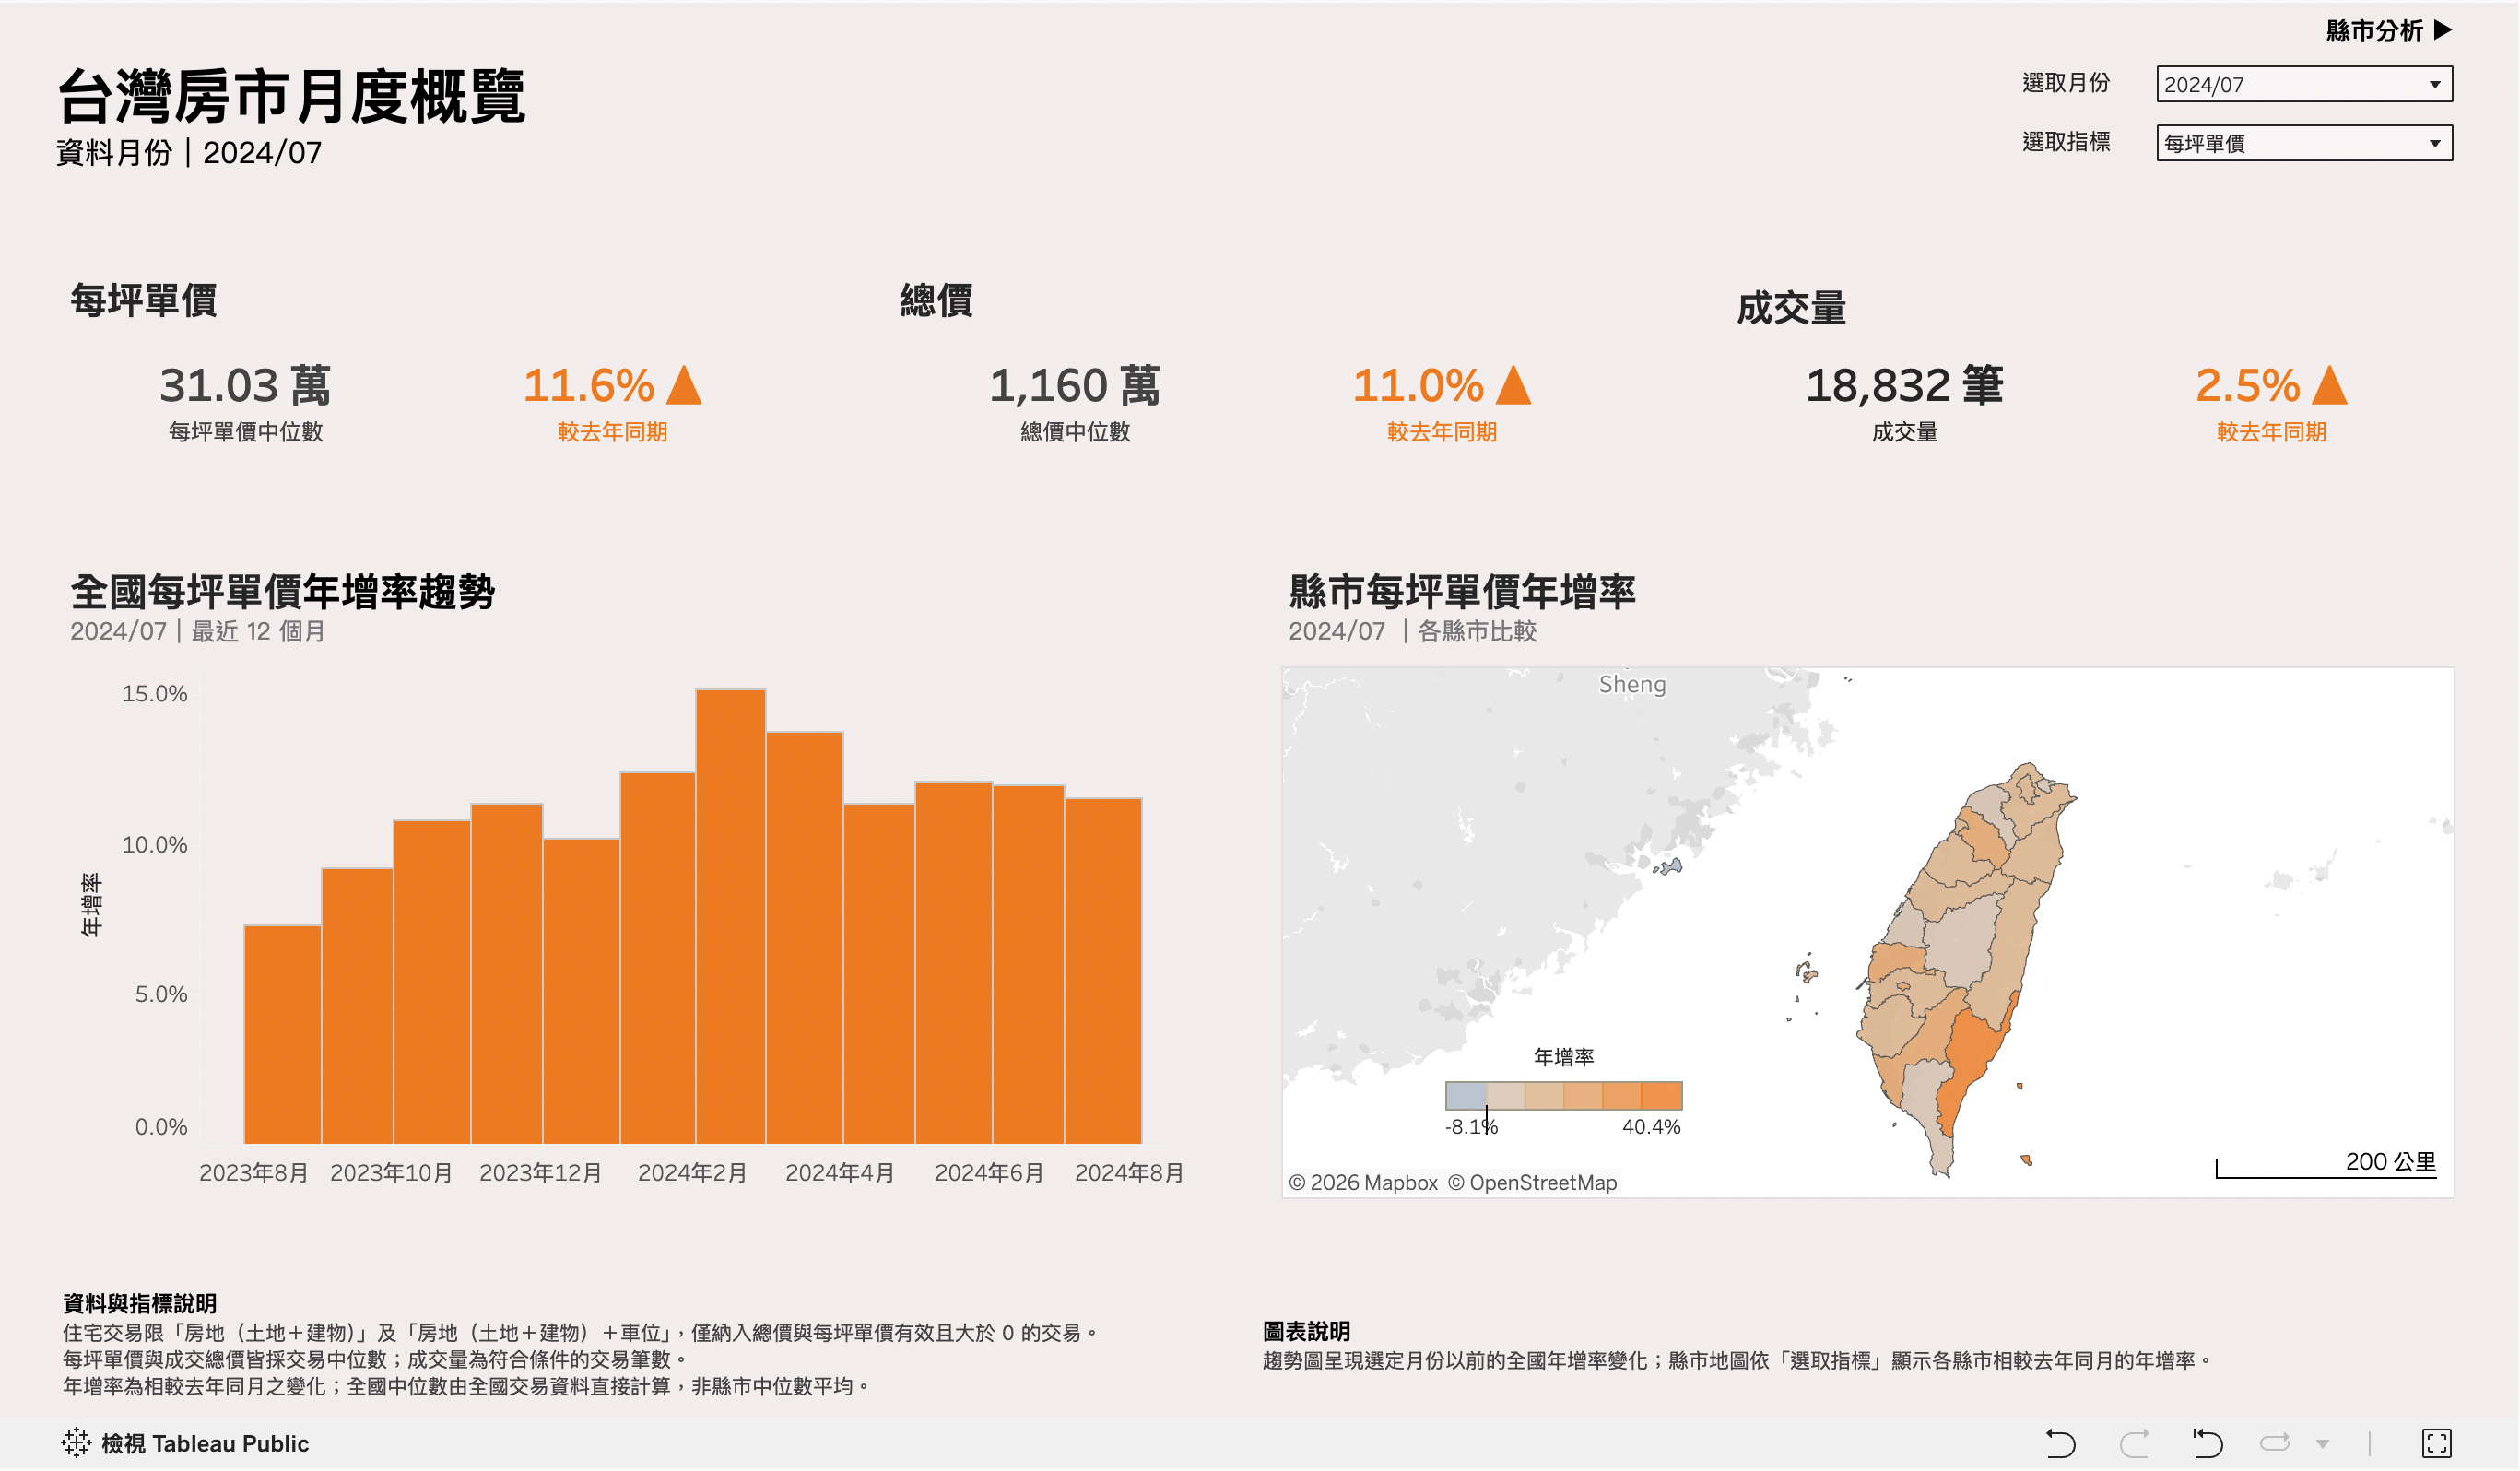

This screenshot's page, from the dashboard's own definition file:
{"tool":"tableau","page":{"name":"台灣房市月度概覽","canvas":[1366,768],"ordinal":0},"visuals":[{"type":"dashboard-object","box":[1246,7,101,16]},{"type":"text","box":[8,8,400.6,107.4]},{"type":"parameter","param":"[Parameters].[參數 0512483433230338]","box":[1093,30,243,32]},{"type":"parameter","param":"[Parameters].[參數 0512483597844485]","box":[1093,62,243,31]},{"type":"worksheet","title":"每坪單價","mark":"Automatic","box":[34,141,199,105]},{"type":"worksheet","title":"每坪單價 年增","mark":"Automatic","box":[233,141,199,105]},{"type":"worksheet","title":"交易量","mark":"Automatic","box":[934,141,199,105]},{"type":"worksheet","title":"交易量 年增","mark":"Automatic","box":[1133,141,199,105]},{"type":"worksheet","title":"總價","mark":"Automatic","box":[484,141.4,199,104.6]},{"type":"worksheet","title":"總價 年增","mark":"Automatic","box":[683,141.4,199,104.6]},{"type":"worksheet","title":"全國年變化率","mark":"Bar","rows":["Calculation_0512483614367756"],"cols":["month_start"],"box":[8,272,661,403]},{"type":"worksheet","title":"年變化地圖","mark":"Multipolygon","box":[669,272,689,403]},{"type":"legend","title":"年變化地圖","param":"[federated.1g6nmk60j286yx18zgdqd1kkzqun].[min:Calculation_0512483598692358:qk]","box":[780,564,137,50]},{"type":"text","box":[34,696,651,64]},{"type":"text","box":[685,696,650,64]}]}

Visuals, with their boxes on the page's 1366x768 design canvas (x1, y1, x2, y2). These are canvas units, not pixel positions in the 2520x1471 screenshot, which may show the page scaled, cropped or inside an application window:
dashboard-object: {"x1": 1246, "y1": 7, "x2": 1347, "y2": 23}
text: {"x1": 8, "y1": 8, "x2": 409, "y2": 115}
parameter: {"x1": 1093, "y1": 30, "x2": 1336, "y2": 62}
parameter: {"x1": 1093, "y1": 62, "x2": 1336, "y2": 93}
"每坪單價" worksheet: {"x1": 34, "y1": 141, "x2": 233, "y2": 246}
"每坪單價 年增" worksheet: {"x1": 233, "y1": 141, "x2": 432, "y2": 246}
"交易量" worksheet: {"x1": 934, "y1": 141, "x2": 1133, "y2": 246}
"交易量 年增" worksheet: {"x1": 1133, "y1": 141, "x2": 1332, "y2": 246}
"總價" worksheet: {"x1": 484, "y1": 141, "x2": 683, "y2": 246}
"總價 年增" worksheet: {"x1": 683, "y1": 141, "x2": 882, "y2": 246}
"全國年變化率" worksheet (Bar marks): {"x1": 8, "y1": 272, "x2": 669, "y2": 675}
"年變化地圖" worksheet (Multipolygon marks): {"x1": 669, "y1": 272, "x2": 1358, "y2": 675}
"年變化地圖" legend: {"x1": 780, "y1": 564, "x2": 917, "y2": 614}
text: {"x1": 34, "y1": 696, "x2": 685, "y2": 760}
text: {"x1": 685, "y1": 696, "x2": 1335, "y2": 760}
